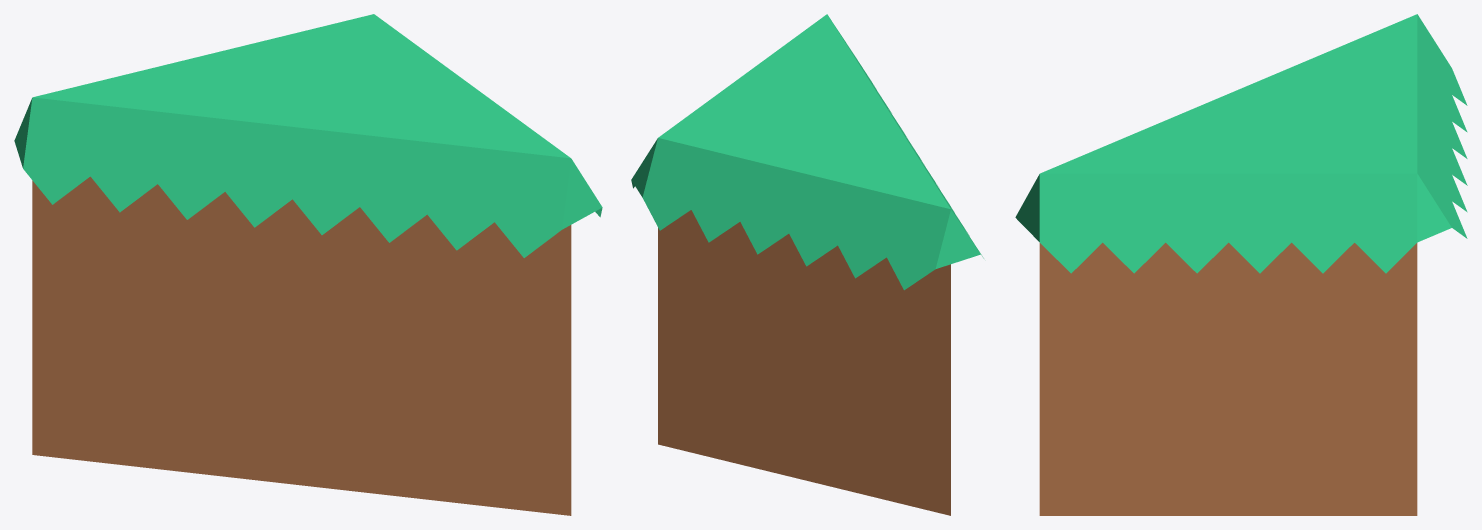
File: blockCornerLarge.fbx
3 views of the same model, side by side, from view 1: azimuth 30°, elevation 25°; view 2: azimuth 150°, elevation 25°; view 3: azimuth 270°, elevation 25° (orthographic). The views are drawn at different scales.
Visible parts, largest first — view 1: blockCornerLarge; view 2: blockCornerLarge; view 3: blockCornerLarge.
Boxes of the visible parts, x1,y1,x2,y2 form: blockCornerLarge: (14,14,602,515); blockCornerLarge: (631,14,983,515); blockCornerLarge: (1015,14,1467,515).
Bounding box in the file's own units: 11.98 × 10 × 11.98.
